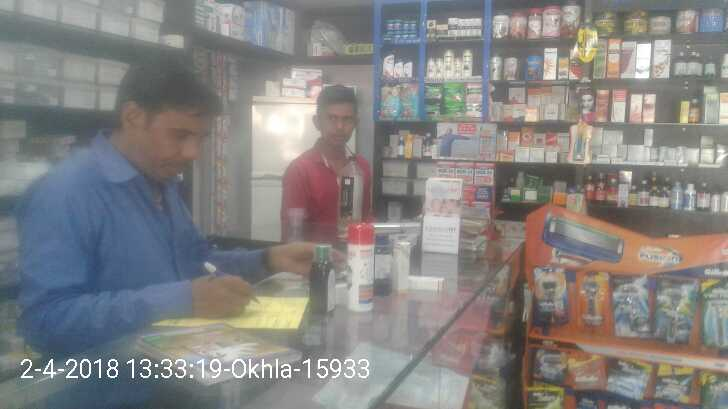vicks: (383, 16, 420, 43)
